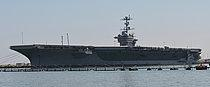MIL_Ship: (8, 14, 203, 65)
